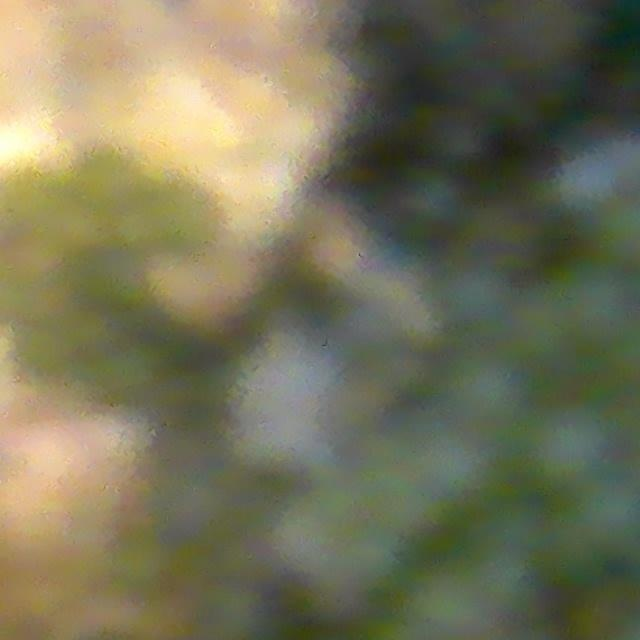SeaGrape: (528, 400, 612, 487), (450, 349, 530, 427), (567, 476, 640, 560), (396, 167, 464, 233)
